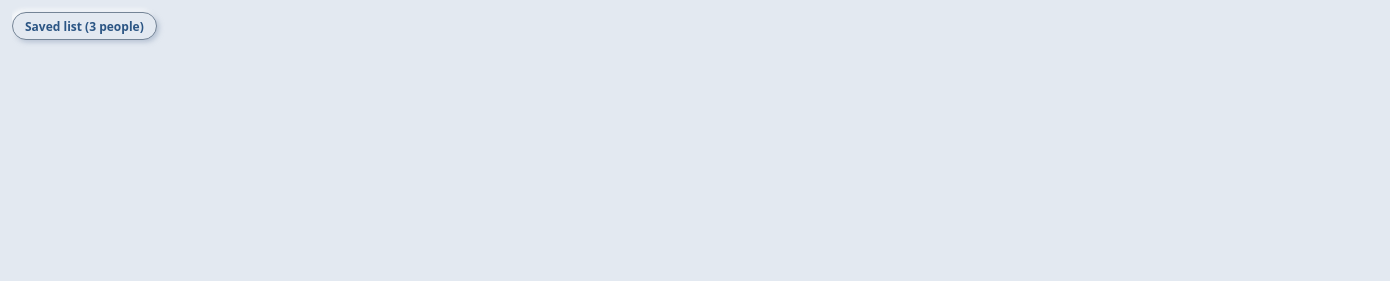
it: adding an address › asks the server nothing when the list is full, and says how many it may hold
This screenshot has width=1390, height=281.
Click the button "Saved list (3 people)": coordinates (84, 26) [12,12,157,40]
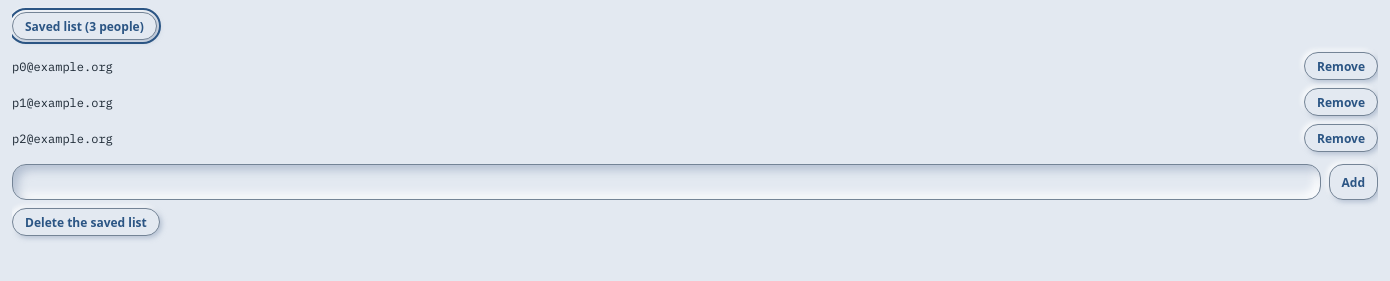
In the field named "Add an address to the saved list": coordinates (666, 182) [12,164,1320,200], type "more@example.org"
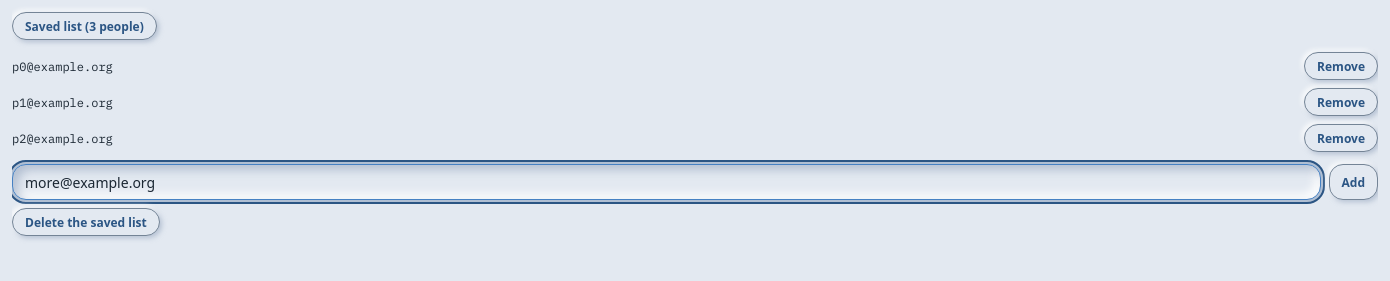
Click the button "Add": coordinates (1353, 182) [1328,164,1378,200]
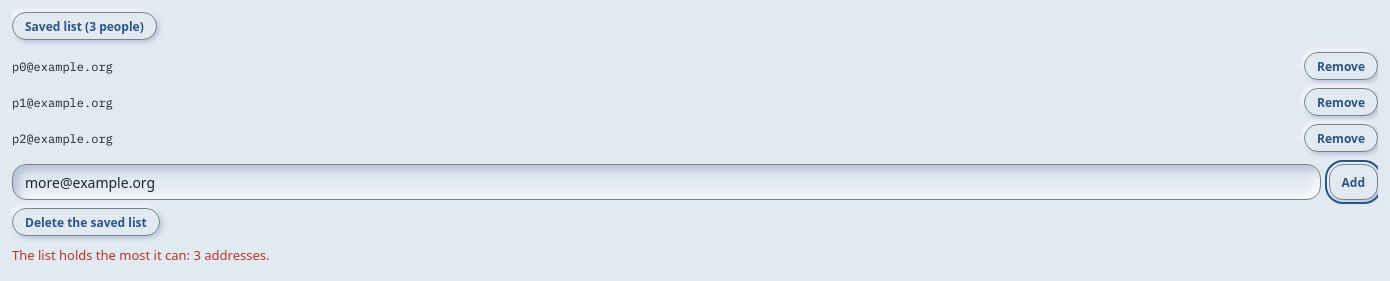
Result: the message reads "The list holds the most it can: 3 addresses." at [12,246,270,264]
